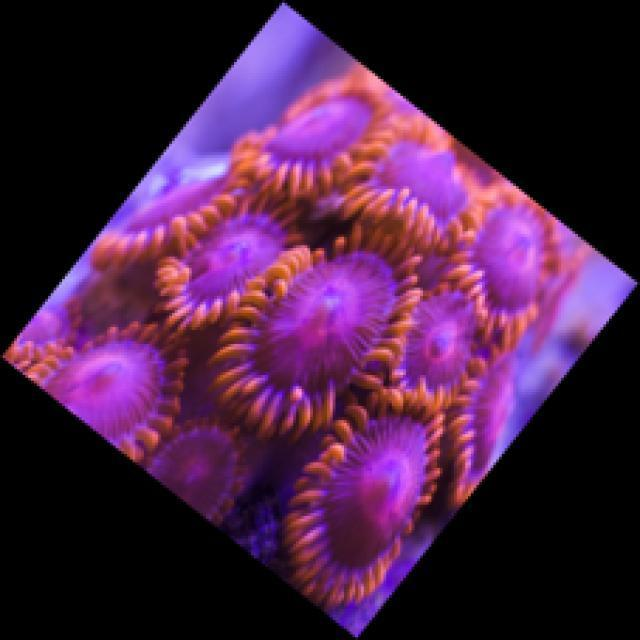Healthy Coral: (131, 163, 511, 484)
